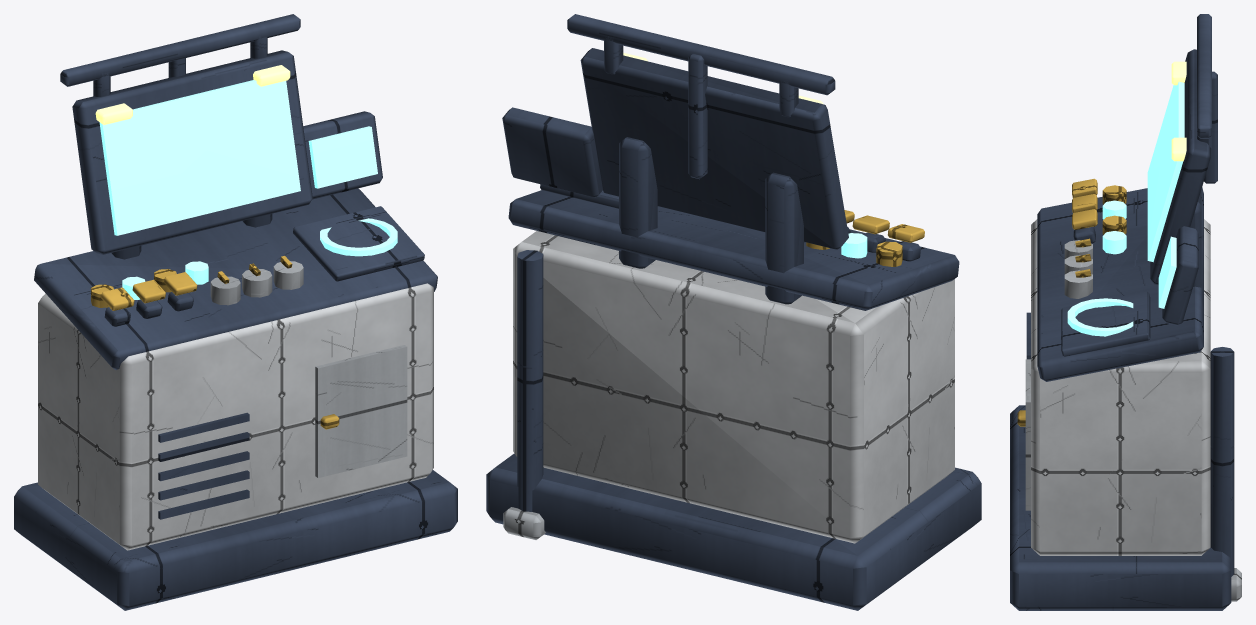
3 renders of one model, left to right at view 1: azimuth 30°, elevation 25°; view 2: azimuth 150°, elevation 25°; view 3: azimuth 270°, elevation 25°, orthographic. The views are drawn at different scales.
Visible parts, largest first — view 1: DL005_ResearchConsole_graphite_navy, DL005_ResearchConsole_hull_offwhite, DL005_ResearchConsole_emissive_cyan, DL005_ResearchConsole_titanium, DL005_ResearchConsole_amber_accent, DL005_ResearchConsole_emissive_amber; view 2: DL005_ResearchConsole_graphite_navy, DL005_ResearchConsole_hull_offwhite, DL005_ResearchConsole_amber_accent, DL005_ResearchConsole_titanium; view 3: DL005_ResearchConsole_graphite_navy, DL005_ResearchConsole_hull_offwhite, DL005_ResearchConsole_emissive_cyan, DL005_ResearchConsole_titanium, DL005_ResearchConsole_amber_accent, DL005_ResearchConsole_emissive_amber.
Boxes of the visible parts, x1,y1,x2,y2 form: DL005_ResearchConsole_graphite_navy: [14, 14, 457, 610]; DL005_ResearchConsole_hull_offwhite: [38, 283, 433, 550]; DL005_ResearchConsole_emissive_cyan: [99, 80, 397, 299]; DL005_ResearchConsole_titanium: [210, 261, 407, 477]; DL005_ResearchConsole_amber_accent: [91, 255, 339, 429]; DL005_ResearchConsole_emissive_amber: [95, 65, 290, 124]; DL005_ResearchConsole_graphite_navy: [486, 14, 981, 610]; DL005_ResearchConsole_hull_offwhite: [513, 231, 954, 543]; DL005_ResearchConsole_amber_accent: [806, 210, 924, 266]; DL005_ResearchConsole_titanium: [503, 507, 545, 539]; DL005_ResearchConsole_graphite_navy: [1010, 14, 1234, 610]; DL005_ResearchConsole_hull_offwhite: [1031, 219, 1210, 555]; DL005_ResearchConsole_emissive_cyan: [1067, 81, 1184, 336]; DL005_ResearchConsole_titanium: [1025, 240, 1241, 601]; DL005_ResearchConsole_amber_accent: [1017, 178, 1126, 426]; DL005_ResearchConsole_emissive_amber: [1171, 61, 1186, 161].
Size of the model in its own units: 1.3 by 1.68 by 0.775.
6 materials, 4 textured.
